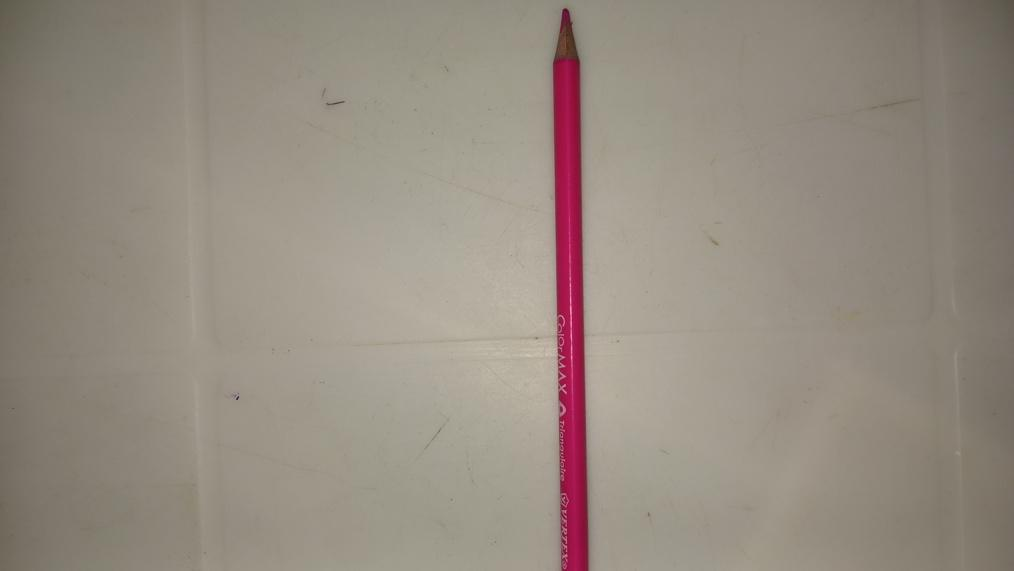Pencil: (553, 10, 586, 571)
